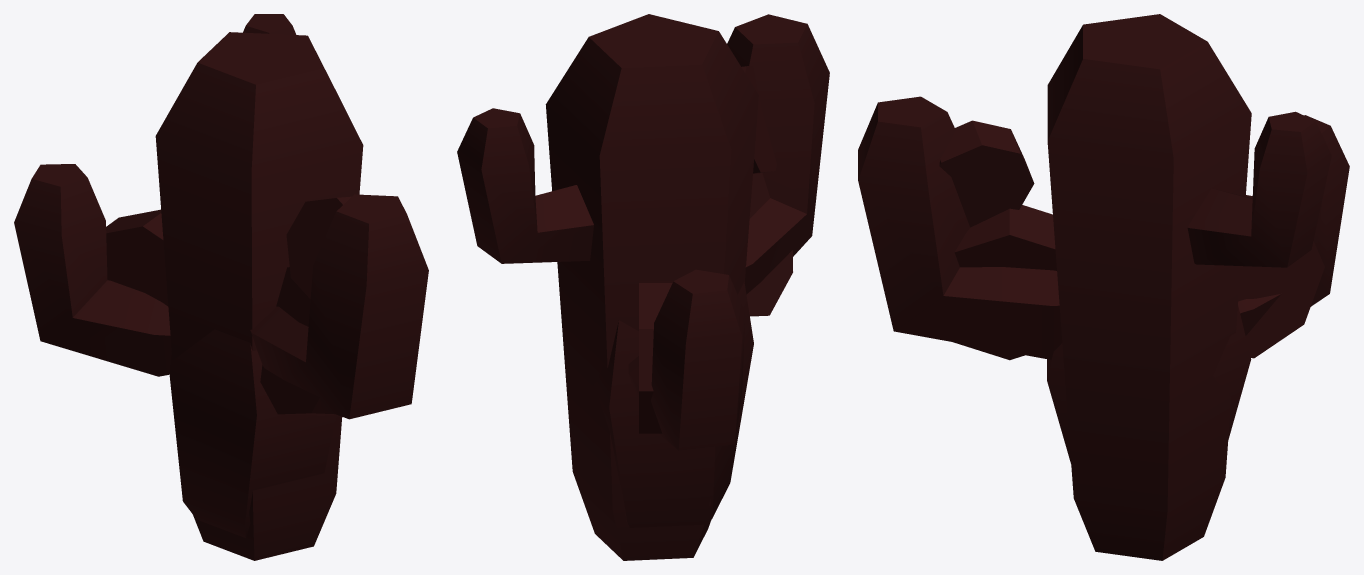
File: Cactus.fbx
The picture shows the model from 3 angles, left to right: view 1: azimuth 30°, elevation 25°; view 2: azimuth 150°, elevation 25°; view 3: azimuth 270°, elevation 25°; orthographic projection. The views are drawn at different scales.
Visible parts, largest first — view 1: Cactus_01, Cactus_02; view 2: Cactus_01, Cactus_02; view 3: Cactus_01, Cactus_02.
Boxes of the visible parts, x1,y1,x2,y2 form: Cactus_01: [14, 14, 428, 560]; Cactus_02: [106, 196, 351, 538]; Cactus_01: [457, 14, 829, 560]; Cactus_02: [594, 65, 792, 533]; Cactus_01: [858, 14, 1349, 560]; Cactus_02: [939, 120, 1324, 463].
Bounding box in the file's own units: 78.77 × 130 × 117.
